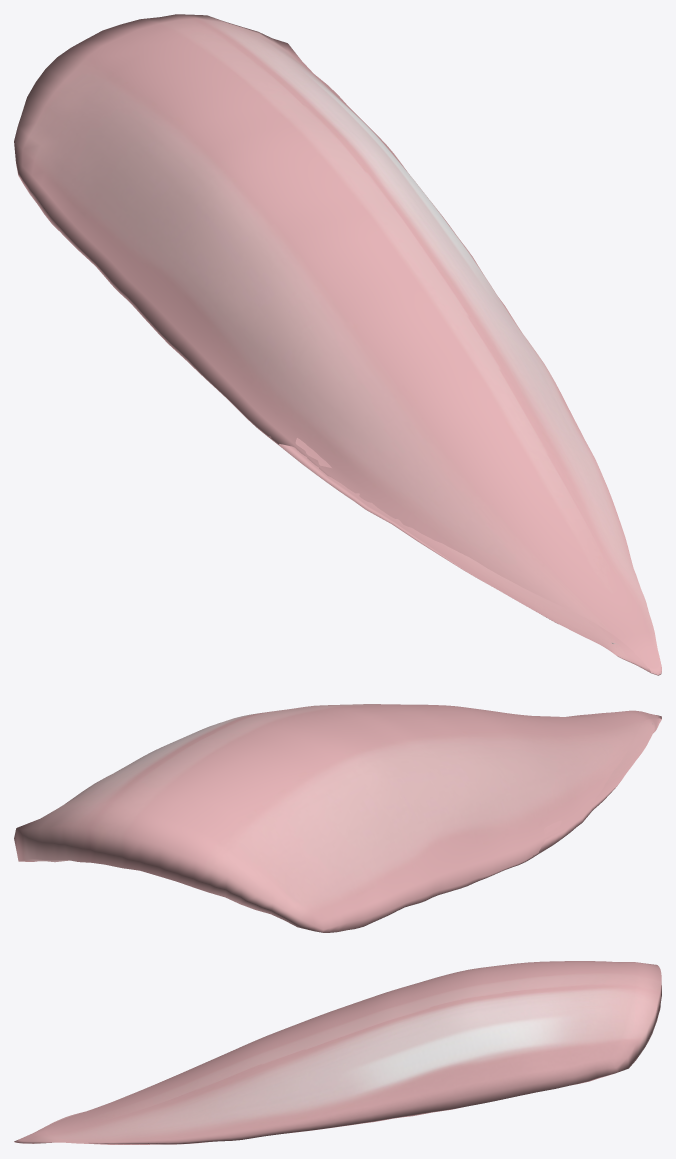
The model's file is acrylic_nail2.fbx.
The picture shows the model from 3 angles, top to bottom: view 1: azimuth 30°, elevation 25°; view 2: azimuth 150°, elevation 25°; view 3: azimuth 270°, elevation 25°; orthographic projection. The views are drawn at different scales.
Visible parts, largest first — view 1: 1 curved acrylic nail; view 2: 1 curved acrylic nail; view 3: 1 curved acrylic nail.
Boxes of the visible parts, x1,y1,x2,y2 form: 1 curved acrylic nail: (14,14,661,675); 1 curved acrylic nail: (14,704,661,932); 1 curved acrylic nail: (14,961,661,1144).
Bounding box in the file's own units: 81.33 × 70.02 × 239.
Materials: 1 (1 with a texture image).
